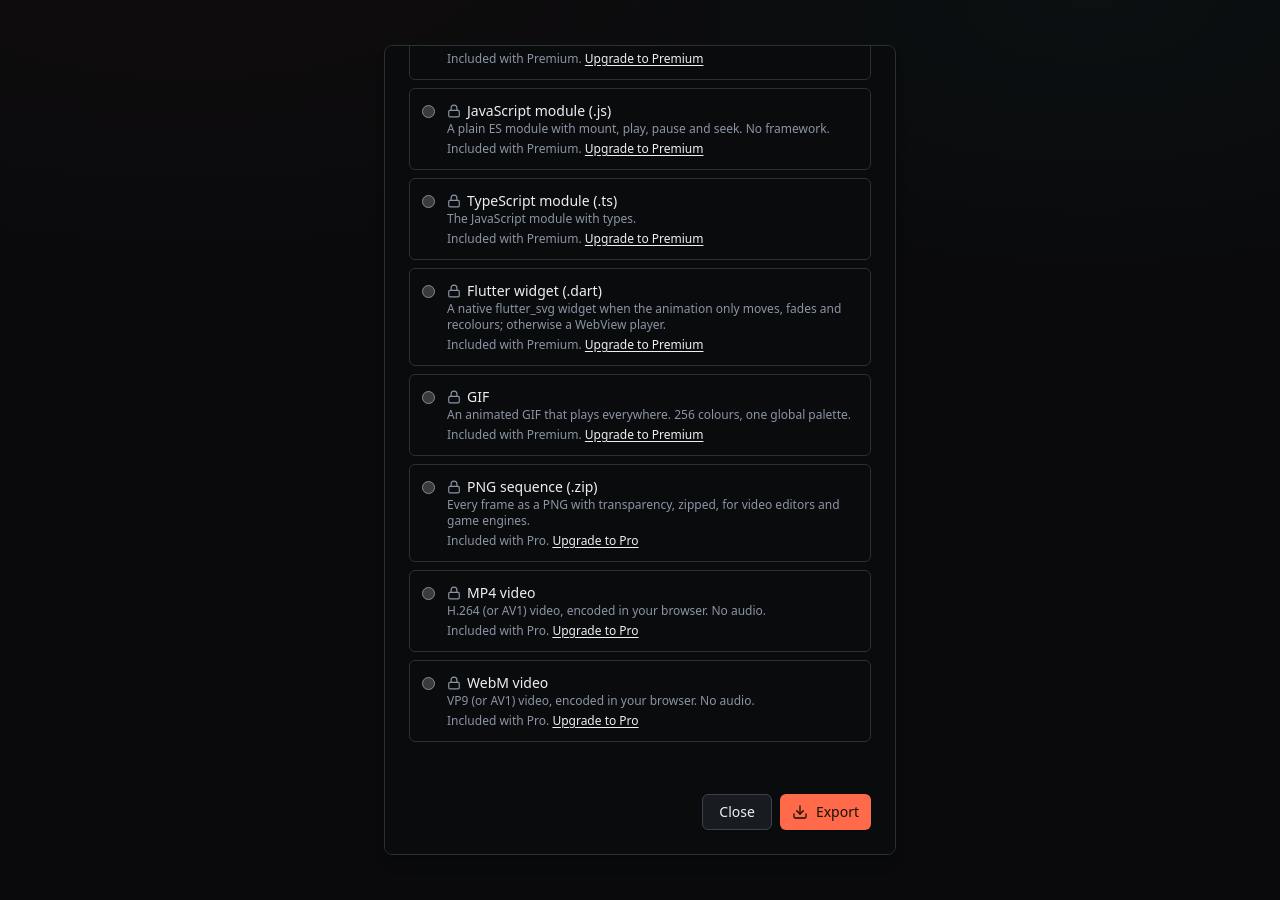
Test case: MM49 refusals route by ladder › free 429 → {"error":"vector_export_limit","tier":"free","limit":5,"used":5,"resetsAt":"x","upgradePath":"premium"}
(page scrolled)
Click the button "Export" at (825, 812), box top-left (780, 794), bottom-right (871, 830)
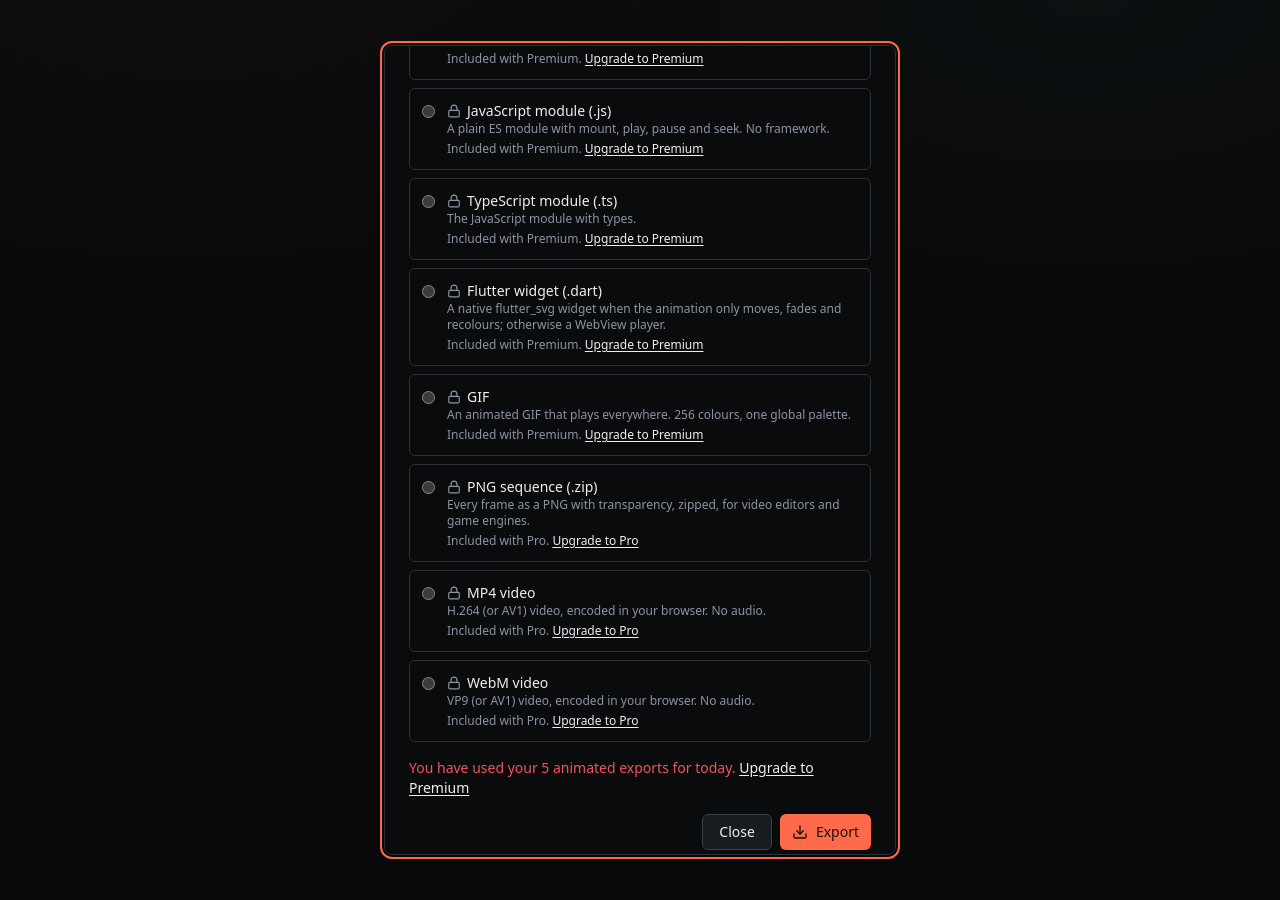
Now the 6th link with test id "vector-upgrade-cta" reads "Upgrade to Premium", box top-left (409, 758), bottom-right (814, 797)
